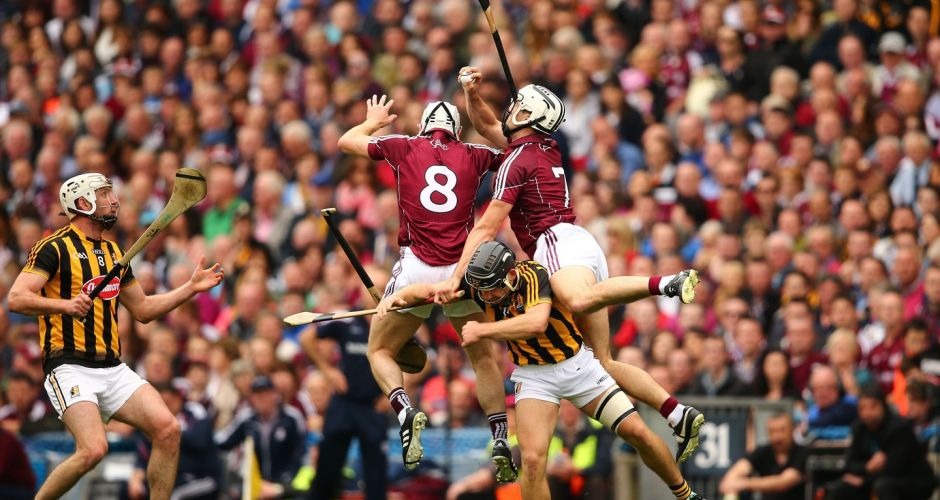player: (22, 159, 191, 494), (471, 235, 675, 488), (373, 94, 513, 462), (493, 78, 667, 310)
